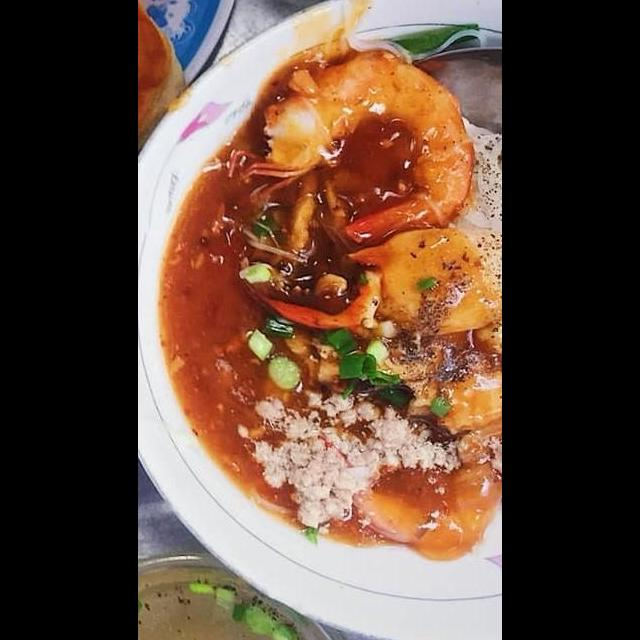thit bam: (227, 376, 469, 534)
tom: (246, 38, 482, 245)
